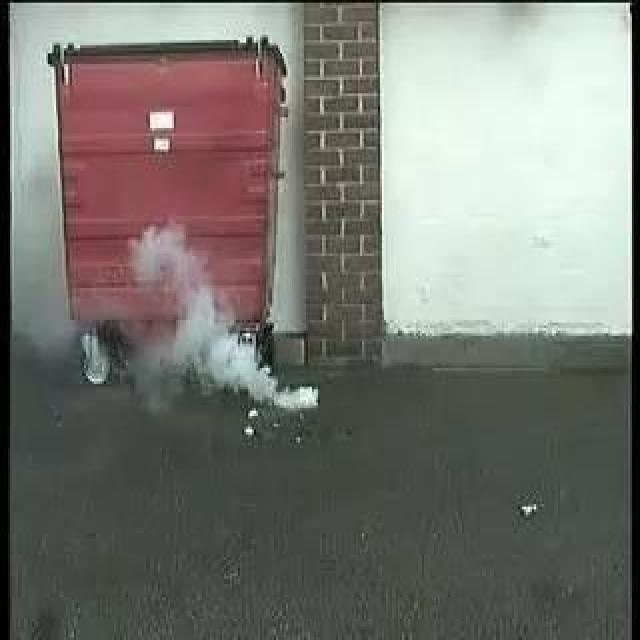Smoke: (128, 222, 316, 406)
